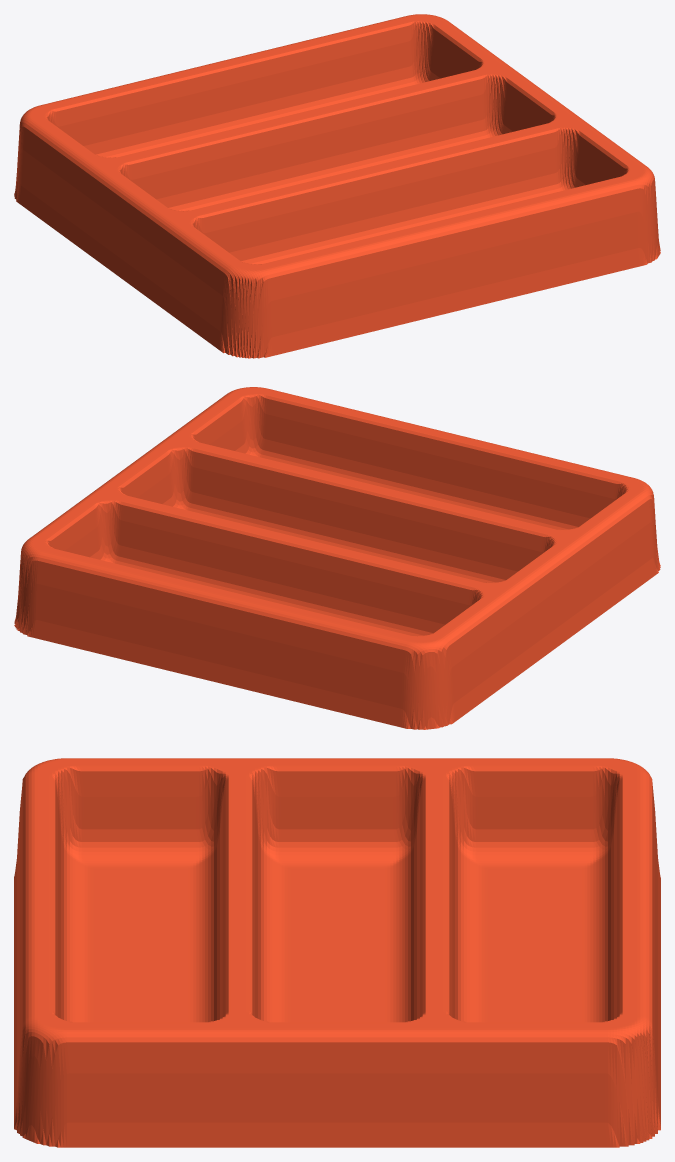
The model's file is mold.glb.
3 views of the same model, one above another, from view 1: azimuth 30°, elevation 25°; view 2: azimuth 150°, elevation 25°; view 3: azimuth 270°, elevation 25° (orthographic). The views are drawn at different scales.
Visible parts, largest first — view 1: geometry_0; view 2: geometry_0; view 3: geometry_0.
Part boxes in pixels (box(x1,y1,x2,y2)): geometry_0: box(14, 14, 660, 358); geometry_0: box(14, 387, 660, 729); geometry_0: box(14, 758, 660, 1147).
Bounding box in the file's own units: 0.116 × 0.0205 × 0.11.
